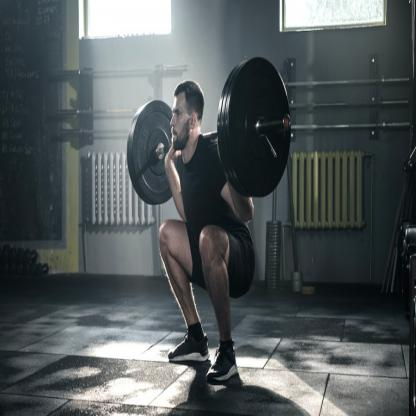Barbell: (215, 48, 297, 205)
